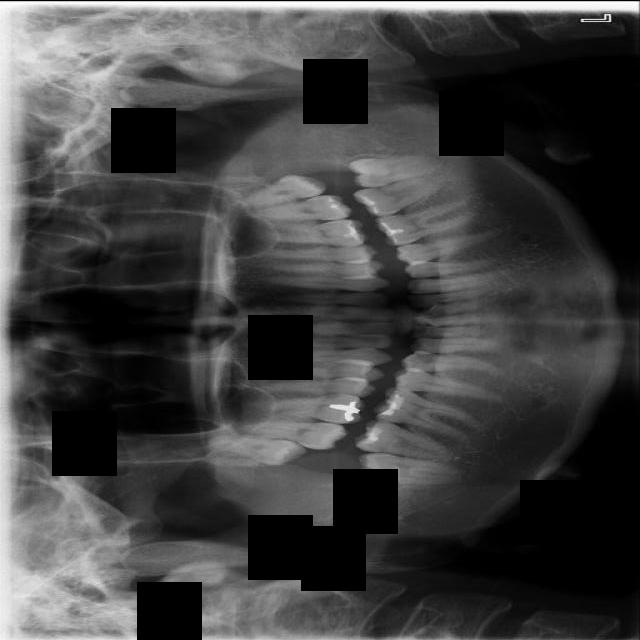3M ESPE Implant: (208, 432, 308, 467)
52: (371, 377, 421, 431), (351, 408, 400, 460), (371, 204, 415, 254), (352, 179, 398, 226), (314, 182, 353, 225), (333, 213, 370, 250), (326, 394, 362, 424)
73: (567, 44, 573, 56)
BioHorizons Implant: (244, 191, 351, 228)
BioLife Implant: (220, 165, 331, 216)
Biomet 3i Implant: (348, 152, 437, 188)
Blue Sky Bio Implant: (352, 169, 443, 224)
Caries: (243, 420, 347, 451)
Implant: (351, 415, 456, 461)
Keystone Dental Implant: (358, 450, 458, 485)
